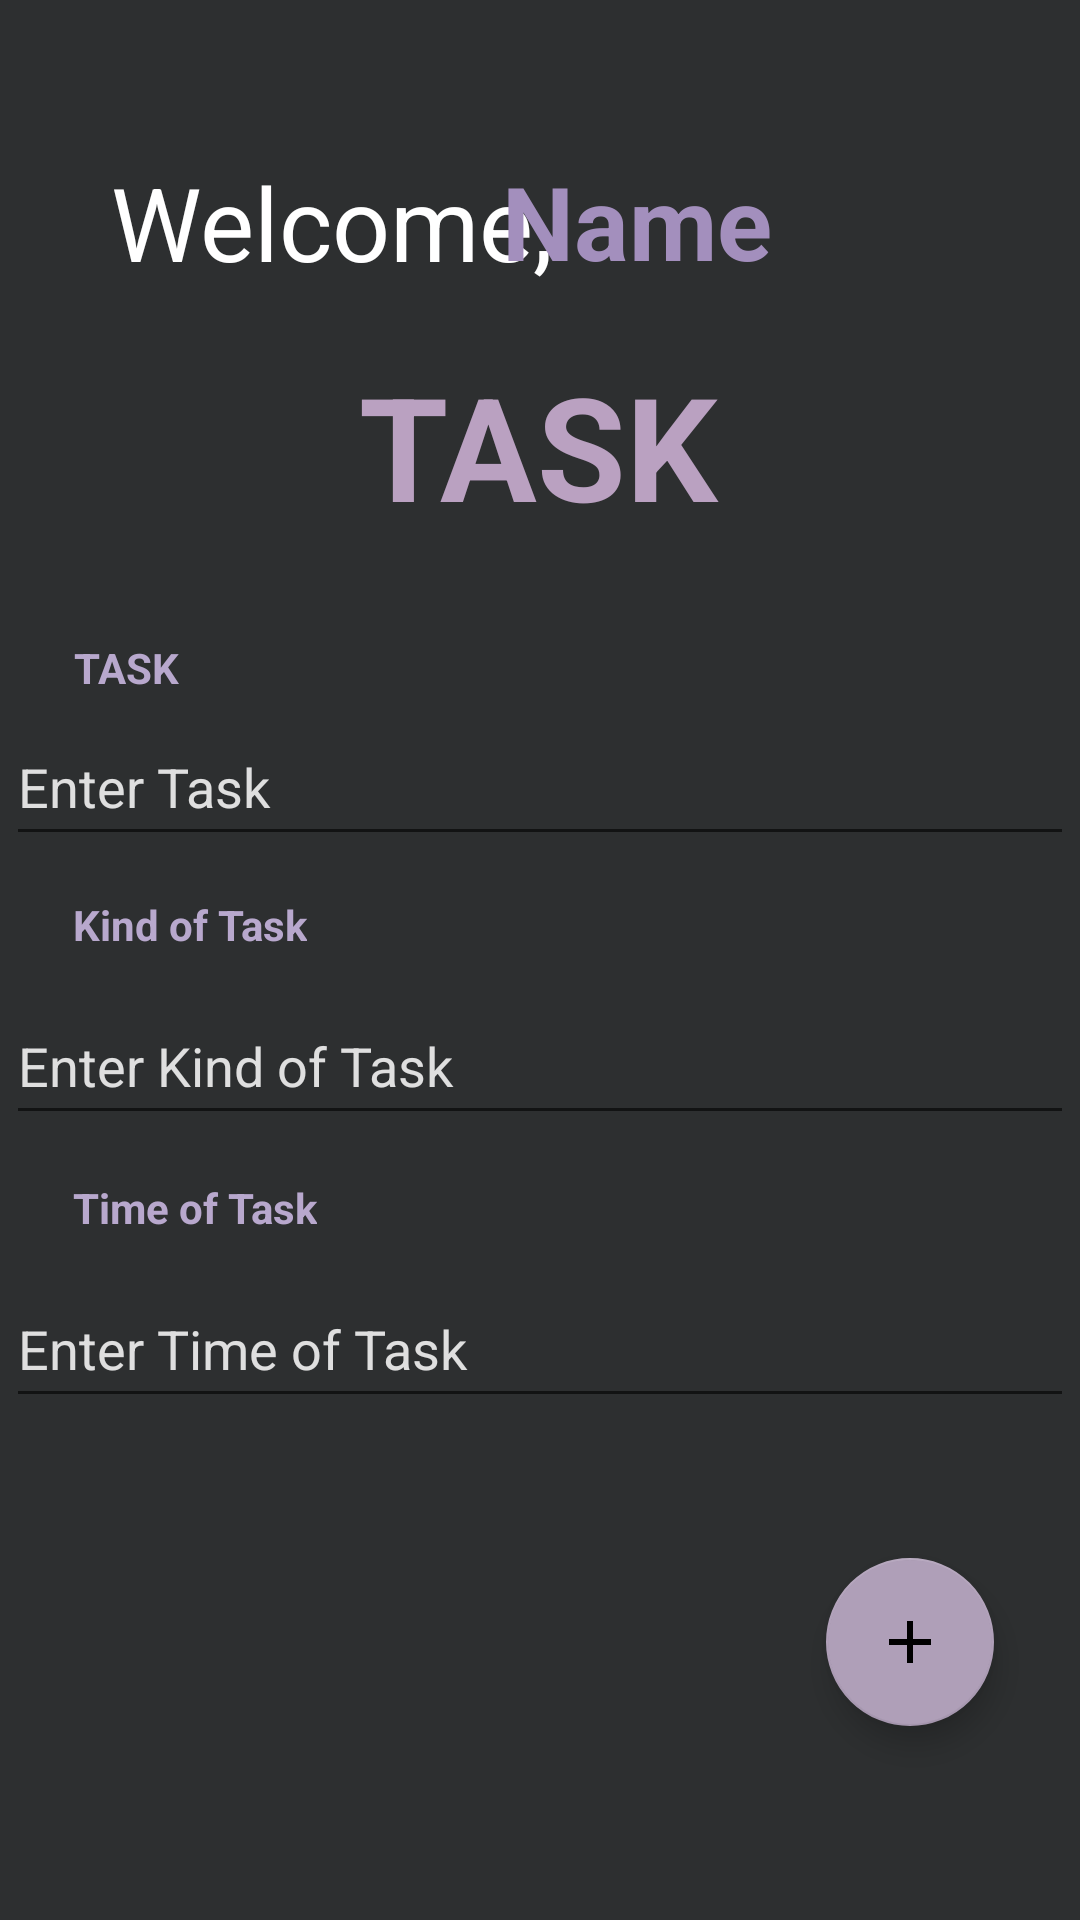

Icons on this 1080px×1920px Android screen, each with the point to tap as (x=x, y=y):
add: (x=910, y=1642)
